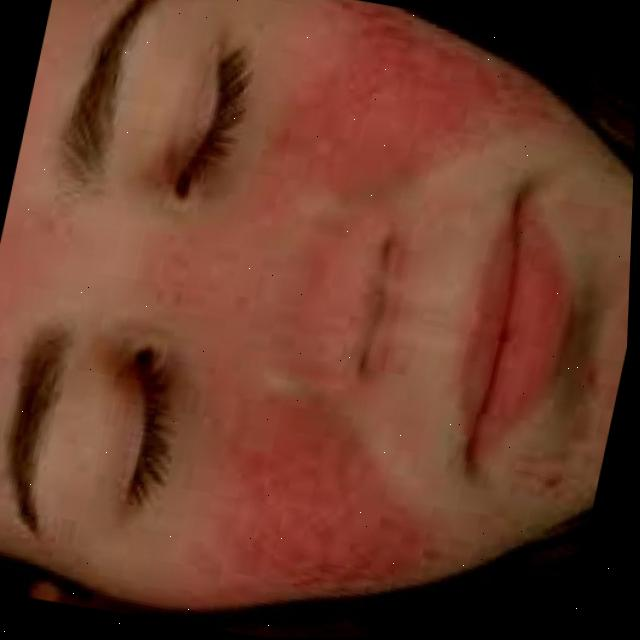Rosacea: (251, 0, 579, 246), (169, 372, 466, 633), (122, 185, 381, 370), (0, 18, 98, 473), (565, 208, 632, 498)
